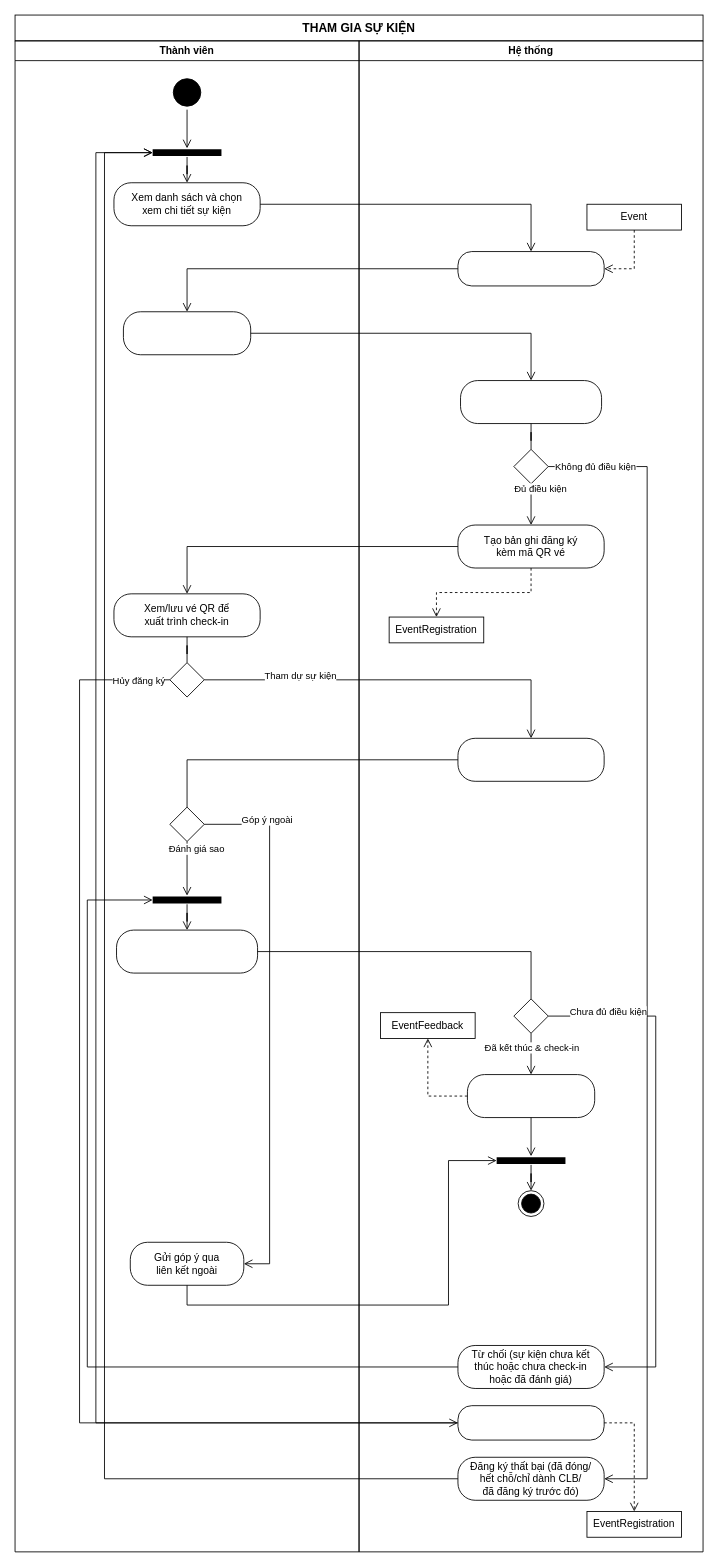
Image size: 718x1567. Some labels were removed from this diagram. The centre of each missing label's shape, as x and y in pixels:
Cập nhật trạng thái check-in sau khi tham dự: point (530, 759)
Hiển thị chi tiết sự kiện: point (530, 268)
Hủy đăng ký sự kiện: point (530, 1422)
Kiểm tra điều kiện đăng ký: point (531, 402)
Lưu đánh giá và cập nhật kết quả: point (531, 1096)
Đánh giá sự kiện (số sao, nhận xét): point (187, 951)
Đăng ký tham gia sự kiện: point (187, 333)
